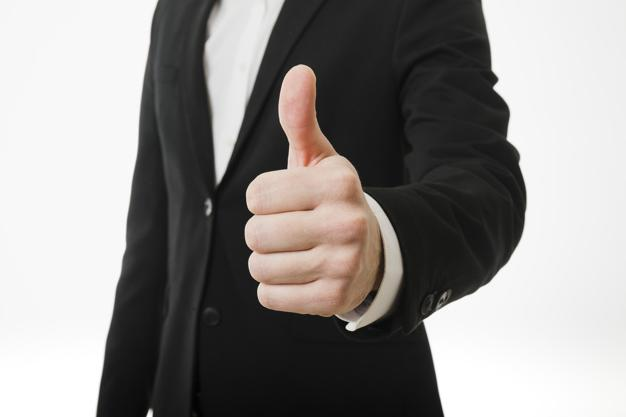thumbsup: (244, 62, 370, 316)
